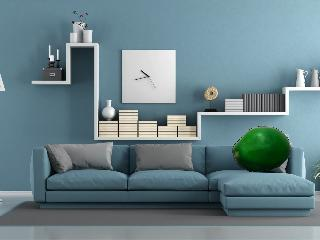lime: (233, 126, 290, 174)
